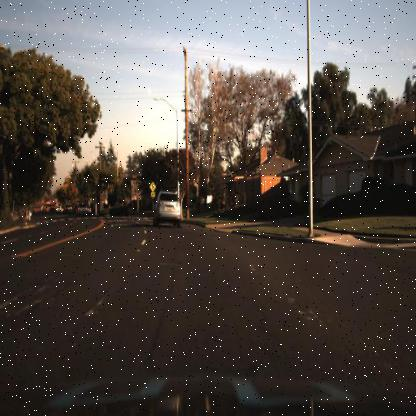car: (150, 189, 182, 229), (73, 202, 87, 216)
